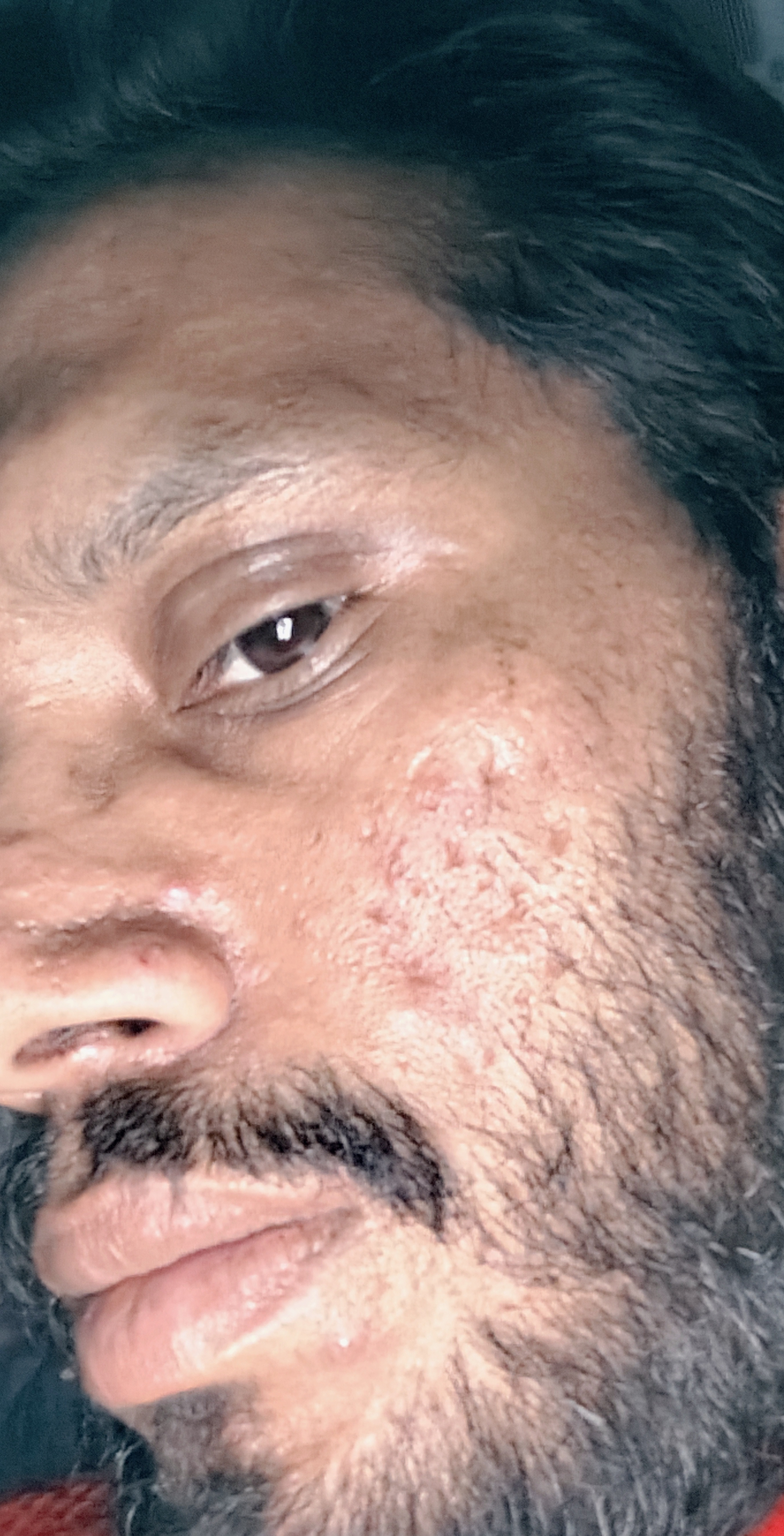papule: (313, 1310, 387, 1379), (149, 857, 212, 923)
